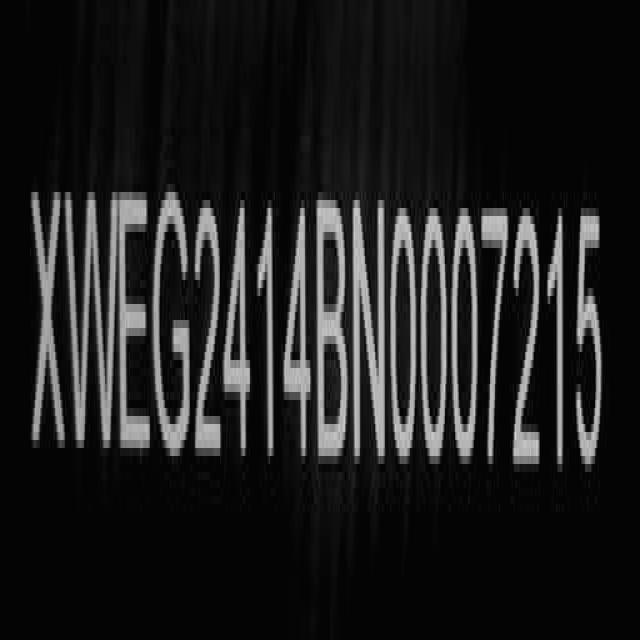0: (452, 202, 481, 470), (421, 204, 449, 467), (393, 197, 419, 467)
1: (549, 202, 571, 481), (257, 192, 277, 467)
2: (194, 196, 226, 468), (514, 206, 542, 482)
4: (283, 193, 316, 468), (223, 192, 252, 465)
5: (576, 198, 604, 479)
7: (483, 198, 509, 476)
B: (318, 196, 350, 469)
E: (118, 185, 153, 462)
G: (154, 186, 192, 462)
N: (353, 191, 387, 469)
W: (68, 183, 120, 461)
X: (31, 180, 67, 462)
